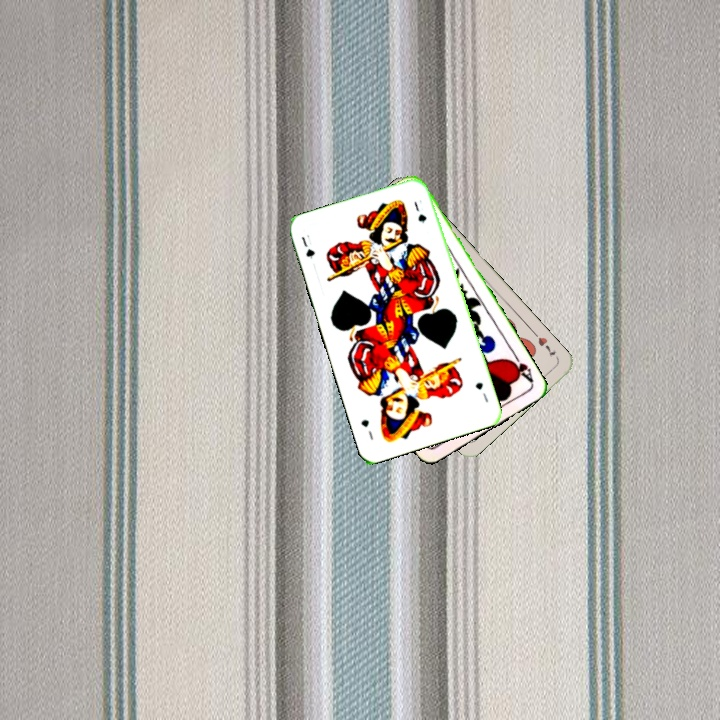GU: (297, 230, 317, 261), (471, 378, 491, 405)
H7: (534, 333, 558, 360)
HA: (504, 349, 536, 386)
